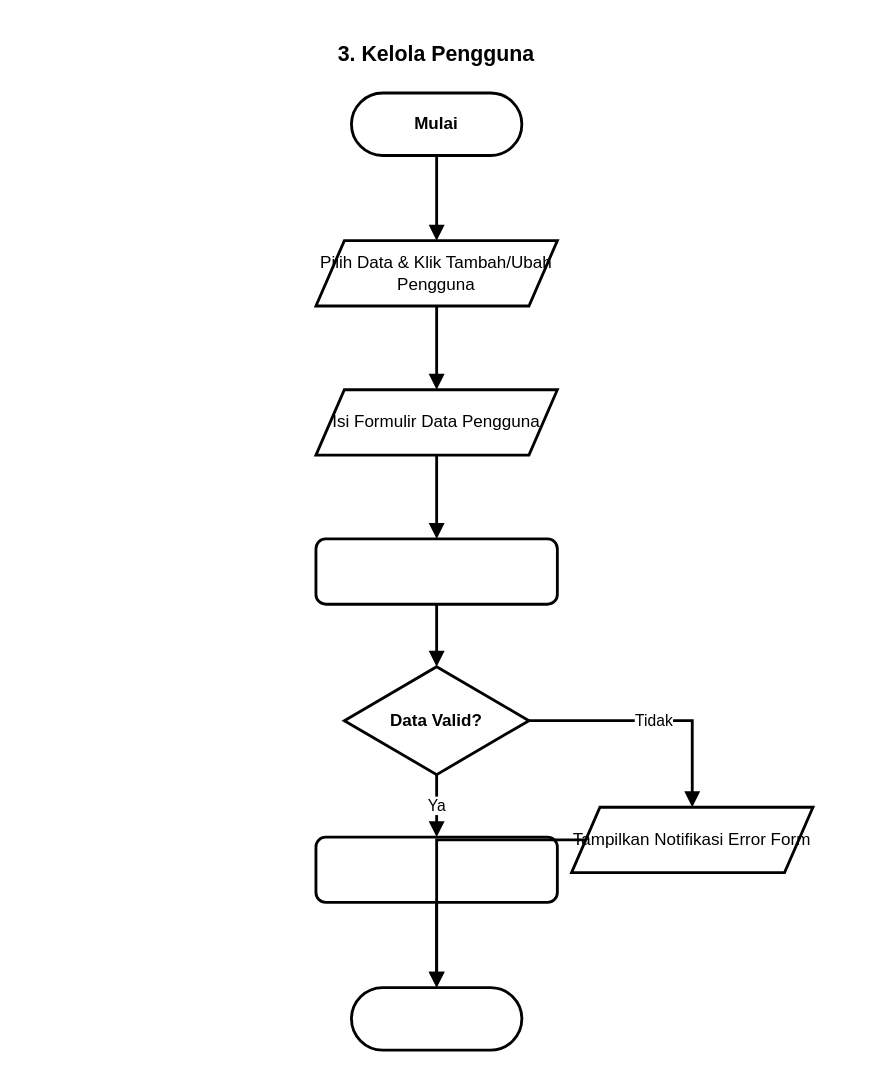
Some shapes in this 872 by 1075 pixel diagram are drawn without their labels. The shapes that lost their labels are listed below. From the top down, each one's box as (x1, y1, x2, y2) in pixels, then its label:
(314, 537, 558, 605): Validasi Kelayakan Data Pengguna
(314, 835, 558, 903): Simpan Data Pengguna ke Database
(349, 985, 523, 1051): Selesai
